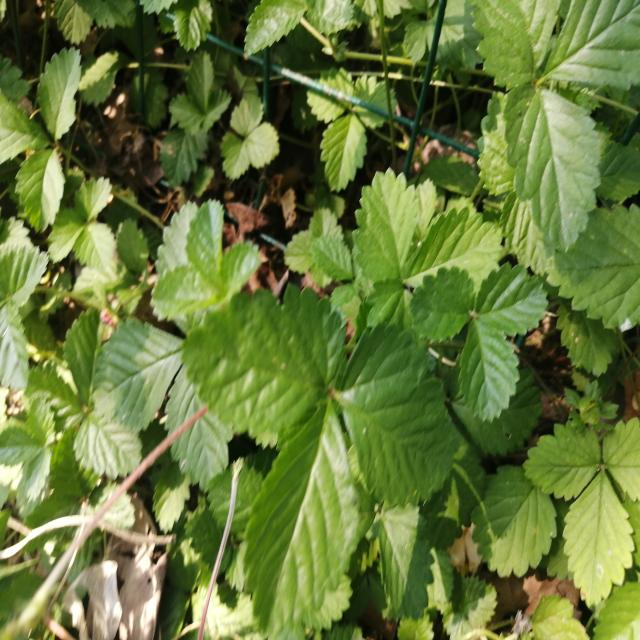Mock_strawberry: (487, 4, 634, 248)
